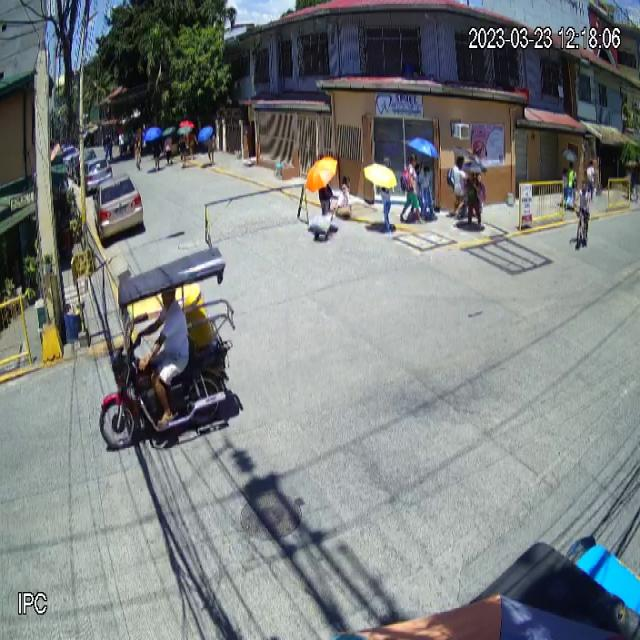Car: (92, 175, 144, 243)
Tricycle: (96, 246, 238, 454)
